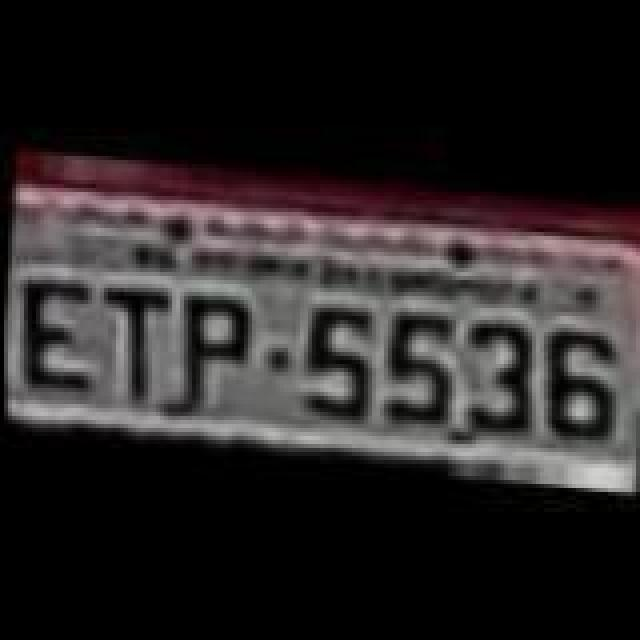3: (448, 306, 544, 442)
5: (288, 296, 376, 428), (372, 306, 460, 430)
6: (534, 320, 630, 448)
E: (4, 268, 100, 396)
P: (166, 282, 258, 414)
T: (84, 274, 180, 406)
